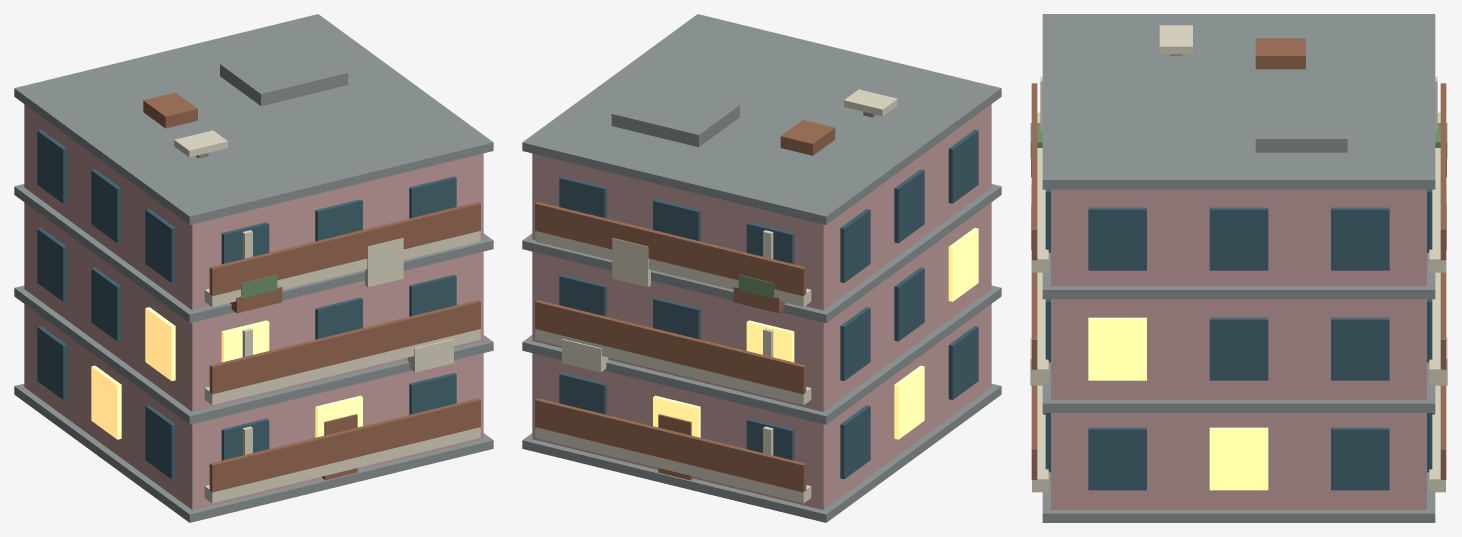
The model's file is five-story.glb.
3 views of the same model, side by side, from view 1: azimuth 30°, elevation 25°; view 2: azimuth 150°, elevation 25°; view 3: azimuth 270°, elevation 25° (orthographic). The views are drawn at different scales.
Visible parts, largest first — view 1: Module_3; view 2: Module_3; view 3: Module_3.
Boxes of the visible parts, box(x1,y1,x2,y2) form: Module_3: box(14, 14, 493, 522); Module_3: box(522, 14, 1001, 522); Module_3: box(1030, 14, 1447, 522).
Bounding box in the file's own units: 0.94 × 0.9495 × 0.998.
